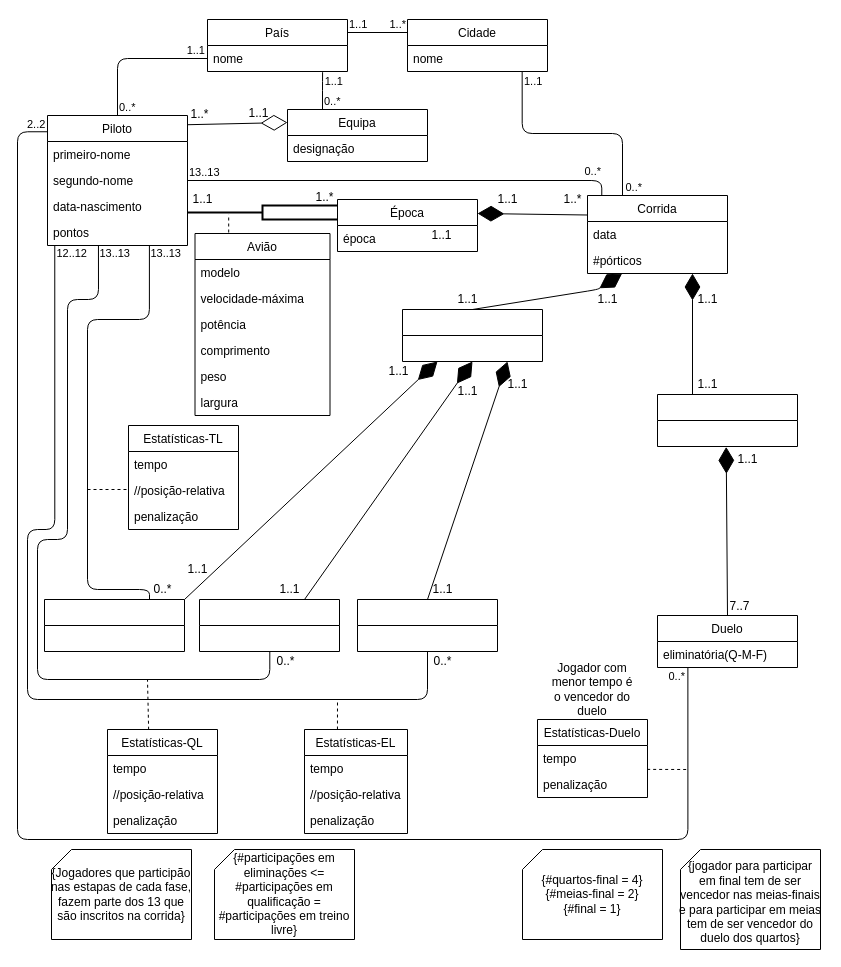
The diagram is 841 pixels wide and 967 high, and some of its shapes have lost their labels. Here are the shapes that lost their labels. From the top down, the centre of each, then its label:
[262,212]: número
[472,335]: Fase-1
[727,420]: Fase-2
[114,625]: Treino-livre
[269,625]: Qualificação
[427,625]: Eliminação
